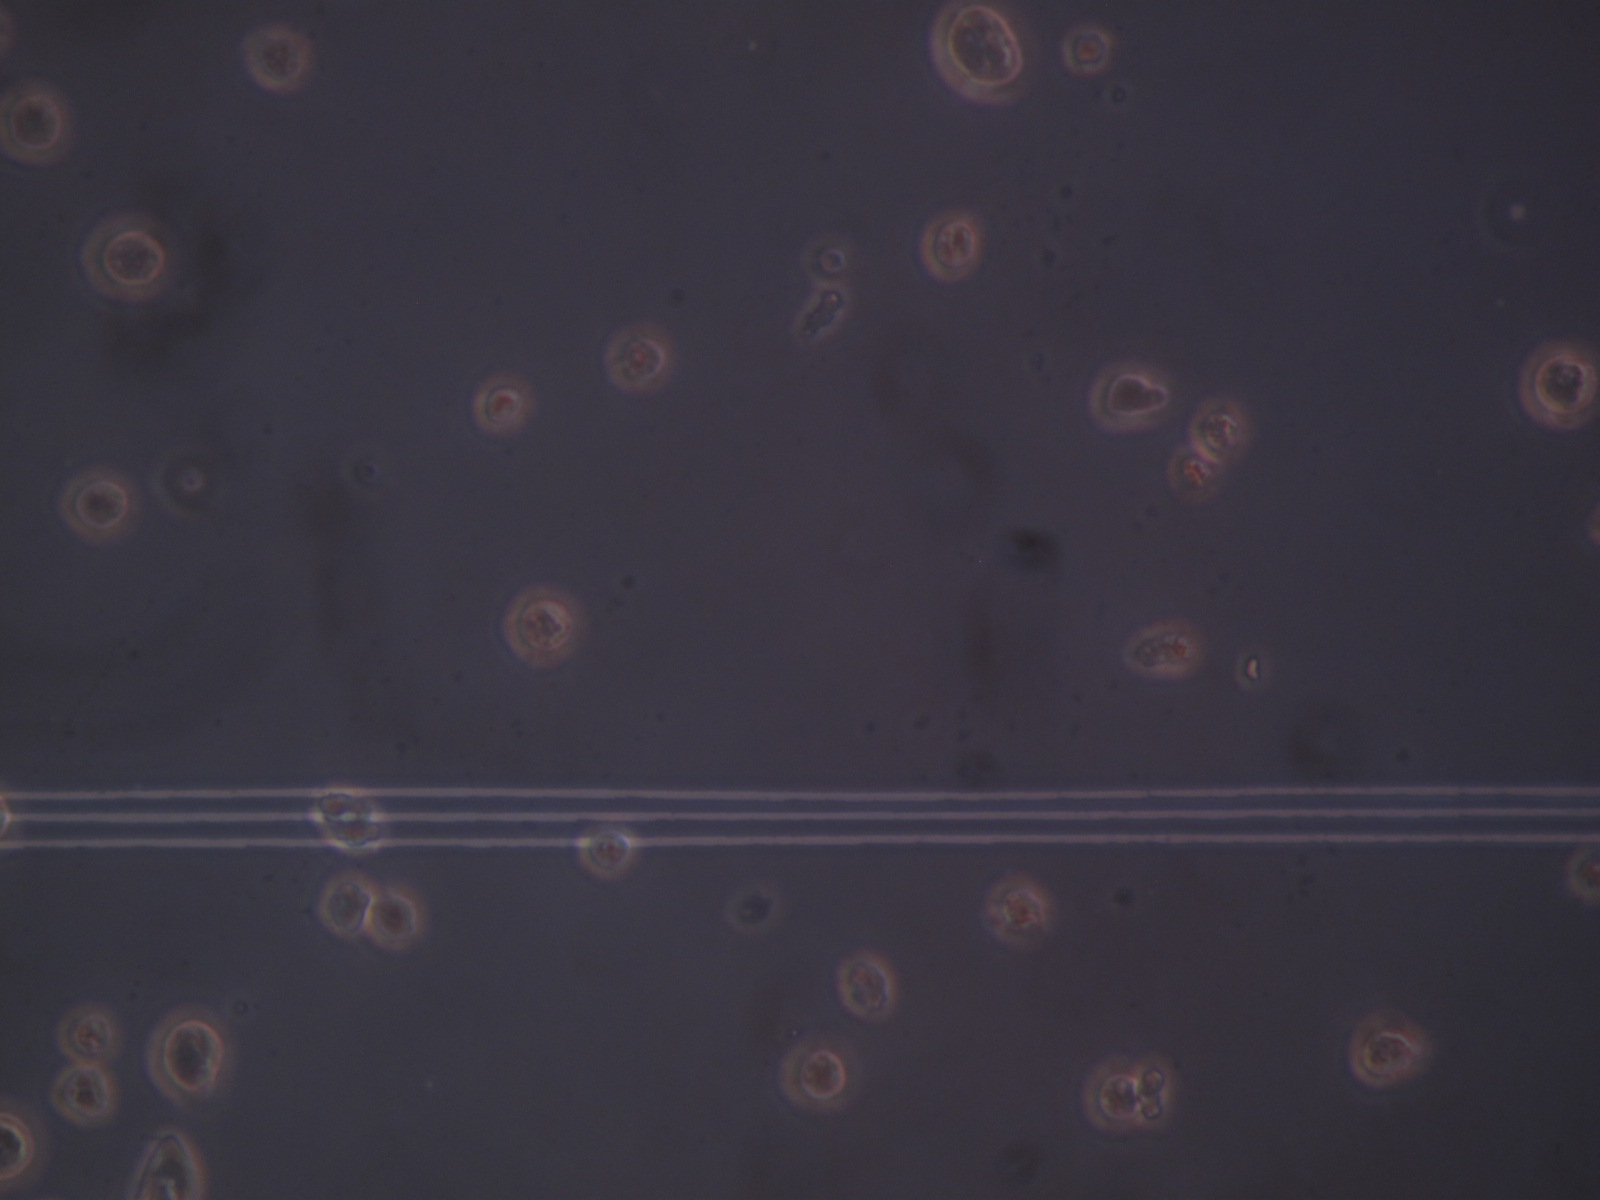hemo: (931, 1, 1031, 101), (144, 1001, 233, 1107), (81, 213, 176, 301), (501, 581, 587, 671), (1516, 342, 1597, 431), (782, 1030, 864, 1114), (1349, 1008, 1432, 1089), (62, 465, 139, 543), (1, 79, 69, 166), (1089, 363, 1170, 435), (127, 1124, 208, 1192), (309, 784, 386, 855), (981, 875, 1052, 950), (237, 29, 311, 95), (605, 324, 673, 392), (1081, 1054, 1140, 1131), (55, 997, 123, 1063), (48, 1065, 118, 1128), (1126, 621, 1201, 679), (317, 865, 374, 940), (369, 885, 431, 954), (837, 950, 896, 1022), (1192, 396, 1251, 466), (921, 213, 978, 284), (1, 1100, 48, 1186), (577, 821, 639, 879), (472, 376, 533, 434), (1167, 447, 1220, 505), (805, 233, 858, 284), (1065, 24, 1110, 74), (1133, 1055, 1175, 1100), (1567, 848, 1600, 897), (1135, 1094, 1169, 1132)
